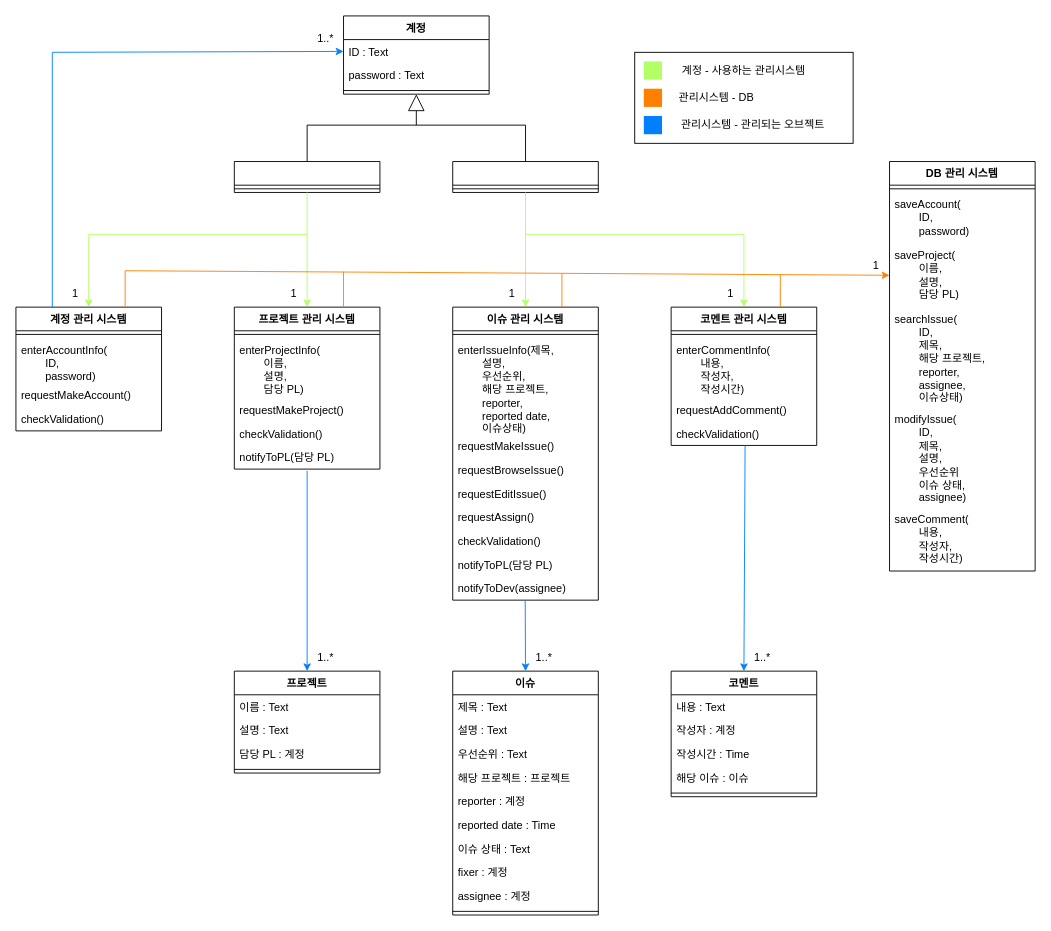
This 1051x931 diagram has some shape labels left out. Here are the shapes that lost their labels. From the top down, the centre of each, then its label:
At [306,176]: "관리자".
At [525,176]: "사용자".
